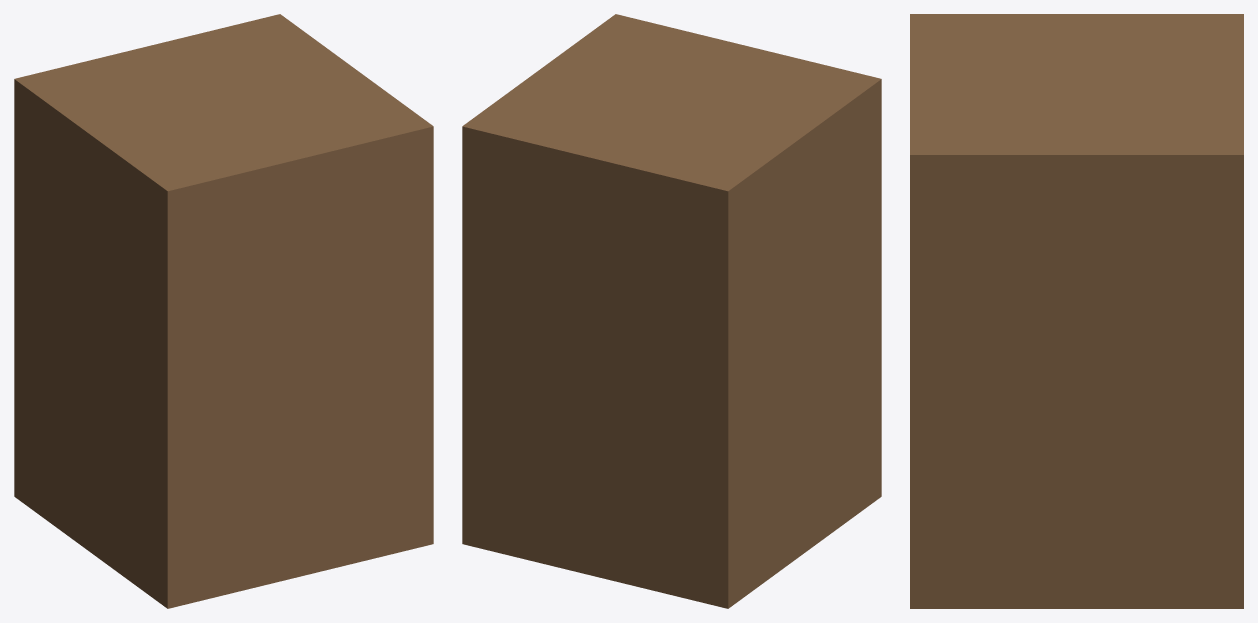
Rendered from owl__tail.glb.
3 views of the same model, side by side, from view 1: azimuth 30°, elevation 25°; view 2: azimuth 150°, elevation 25°; view 3: azimuth 270°, elevation 25° (orthographic). The views are drawn at different scales.
Visible parts, largest first — view 1: owl__tail; view 2: owl__tail; view 3: owl__tail.
Boxes of the visible parts, x1,y1,x2,y2 form: owl__tail: [14, 14, 433, 608]; owl__tail: [462, 14, 881, 608]; owl__tail: [910, 14, 1243, 608].
Size of the model in its own units: 0.2 by 0.3 by 0.2.
Materials: 1 (1 with a texture image).
